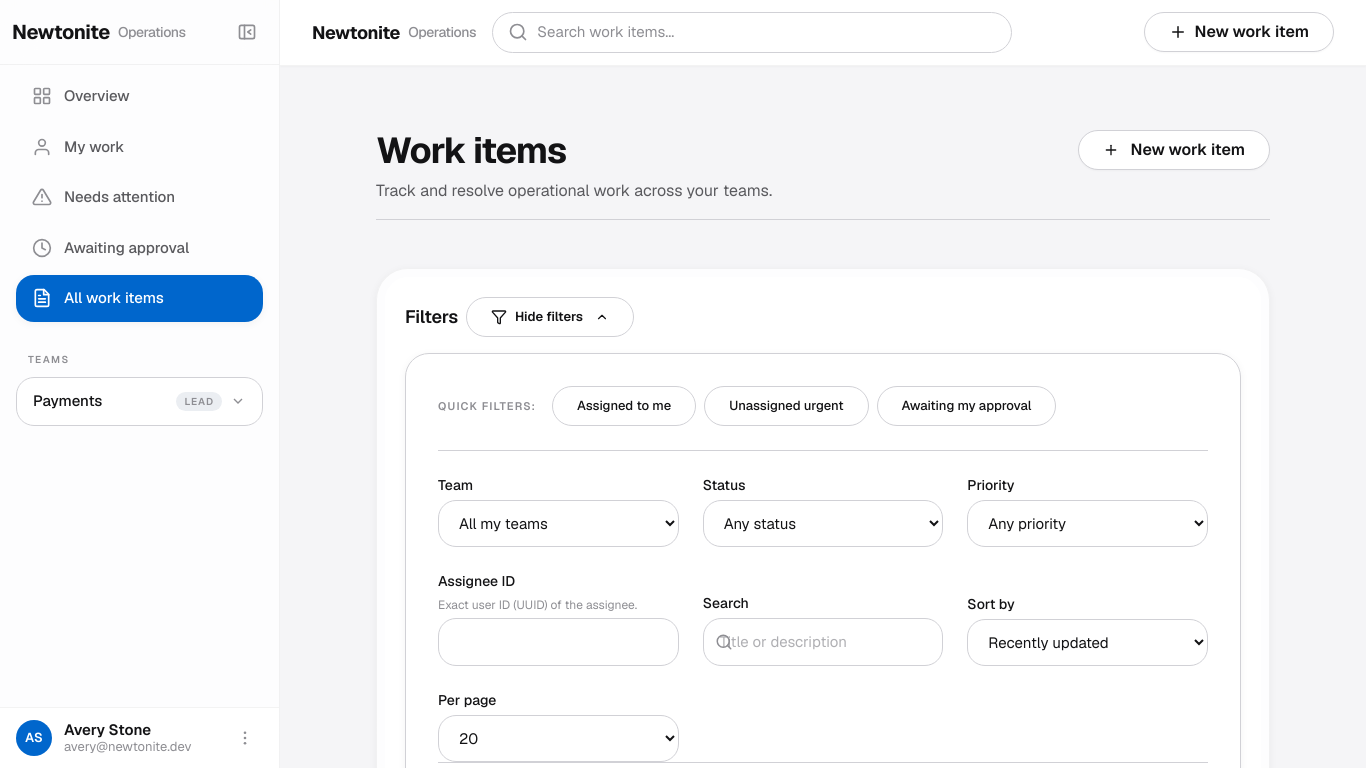
Test: ItemsPage › disables previous button on first page and next button on last page
Expected: the heading "Work items" is shown, [376,126,566,174]
Select "10" in the dropdown labelled "Per page" at (558, 739), box [438,715,679,762]
(page scrolled)
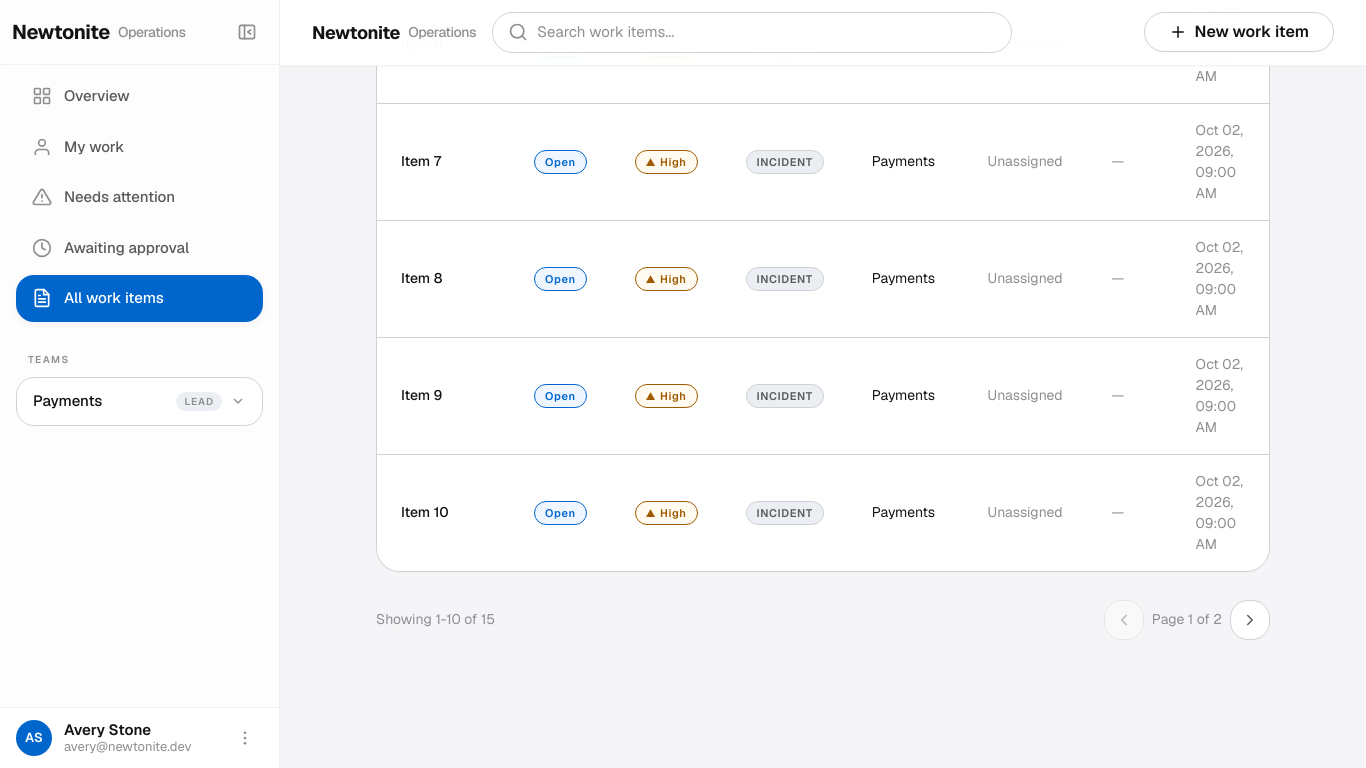
Expected: the button named "previous" is disabled, [1104,600,1144,640]
Expected: the button named "next" is enabled
// Go to page 2
Click the button named "next".
click(1250, 620)  # box [1230,600,1270,640]
(page scrolled)
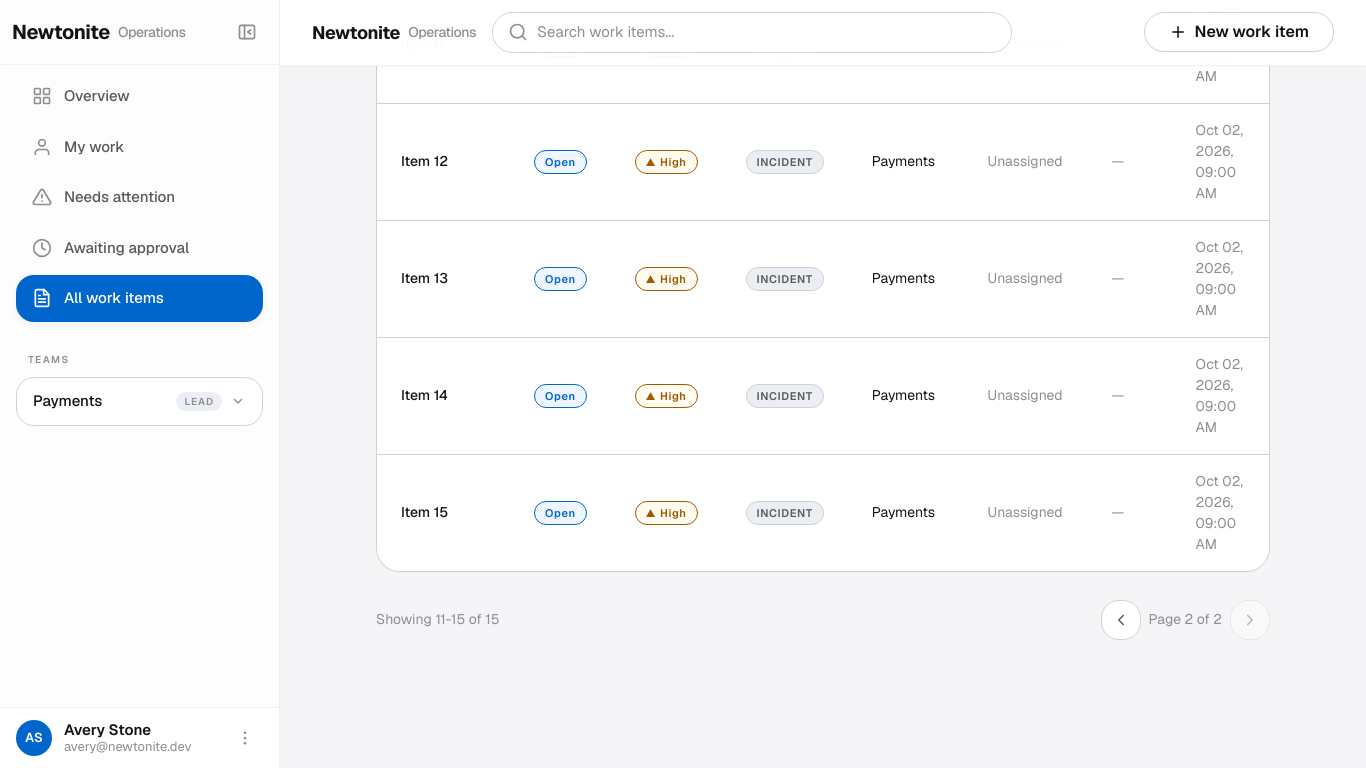
Expected: the button named "previous" is enabled, [1101,600,1141,640]
